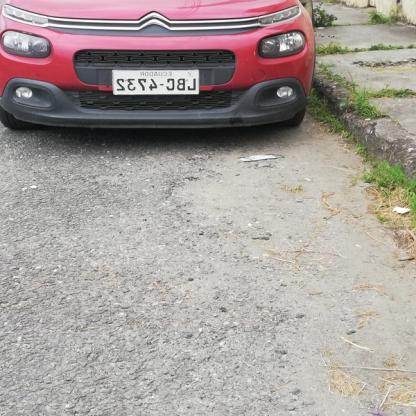Placa: (110, 69, 200, 97)
